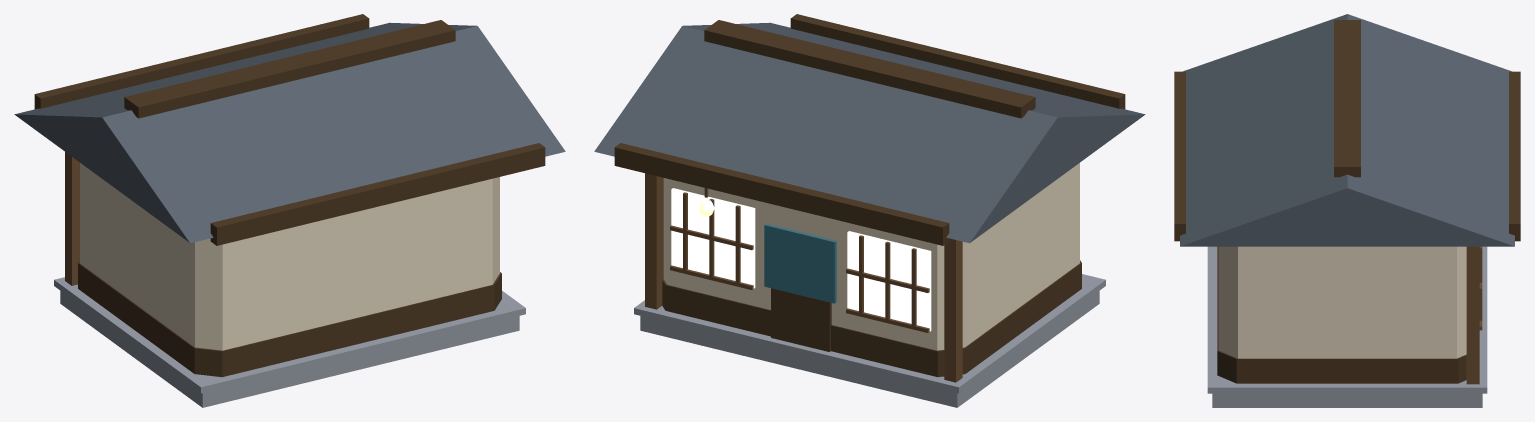
File: xy_house_machiya.glb
The picture shows the model from 3 angles, left to right: view 1: azimuth 30°, elevation 25°; view 2: azimuth 150°, elevation 25°; view 3: azimuth 270°, elevation 25°; orthographic projection. The views are drawn at different scales.
Visible parts, largest first — view 1: House; view 2: House; view 3: House.
Part boxes in pixels (bbox=[...]): House: bbox=[14, 14, 565, 407]; House: bbox=[594, 14, 1145, 407]; House: bbox=[1174, 14, 1520, 407].
Bounding box in the file's own units: 6.4 × 4.13 × 5.38.
